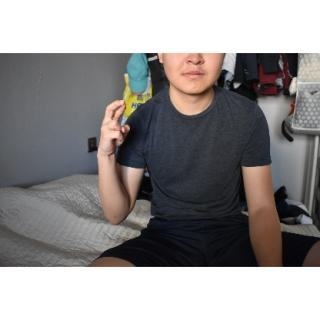ZAY: (96, 97, 134, 159)
